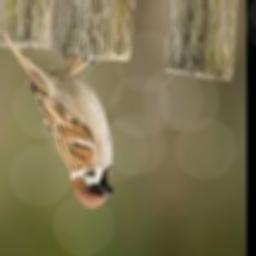Sparrow: (0, 22, 114, 209)
